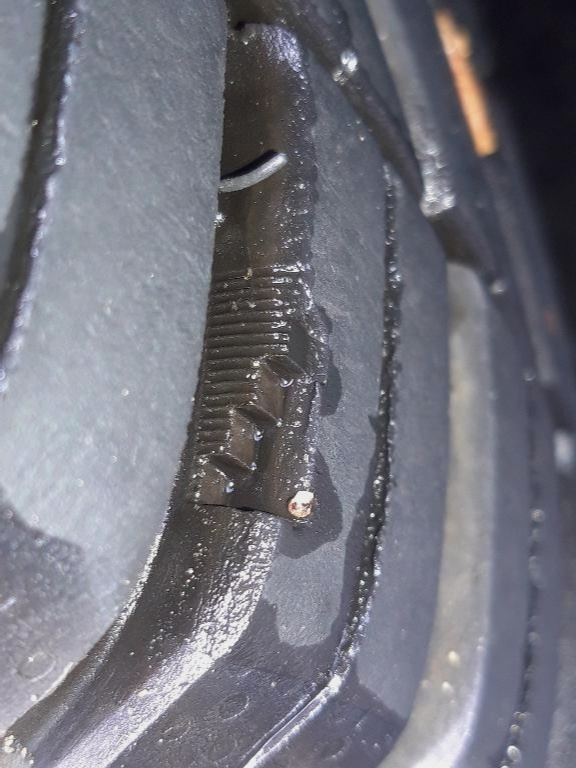temoin:80: (174, 268, 334, 530)
